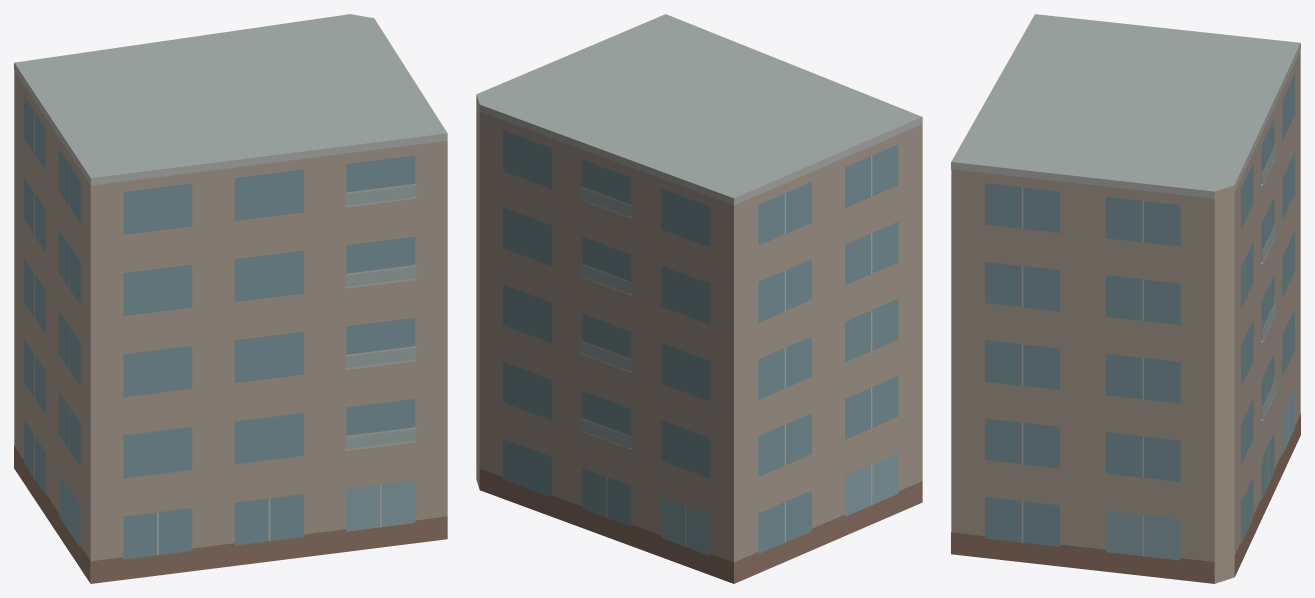
Rendered from survey-upis-32978894.glb.
3 views of the same model, side by side, from view 1: azimuth 30°, elevation 25°; view 2: azimuth 150°, elevation 25°; view 3: azimuth 270°, elevation 25° (orthographic). The views are drawn at different scales.
Visible parts, largest first — view 1: survey-upis-32978894.tmp; view 2: survey-upis-32978894.tmp; view 3: survey-upis-32978894.tmp.
Boxes of the visible parts, box(x1,y1,x2,y2) form: survey-upis-32978894.tmp: box(14, 14, 447, 583); survey-upis-32978894.tmp: box(476, 14, 922, 583); survey-upis-32978894.tmp: box(951, 14, 1300, 583).
Size of the model in its own units: 12.88 by 13.25 by 10.72.
